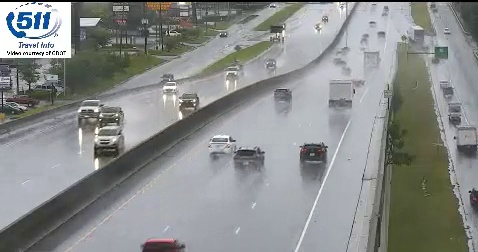car: (233, 146, 264, 168), (208, 135, 234, 155), (300, 143, 327, 162), (273, 88, 292, 102)
small-truck: (329, 80, 354, 108)
